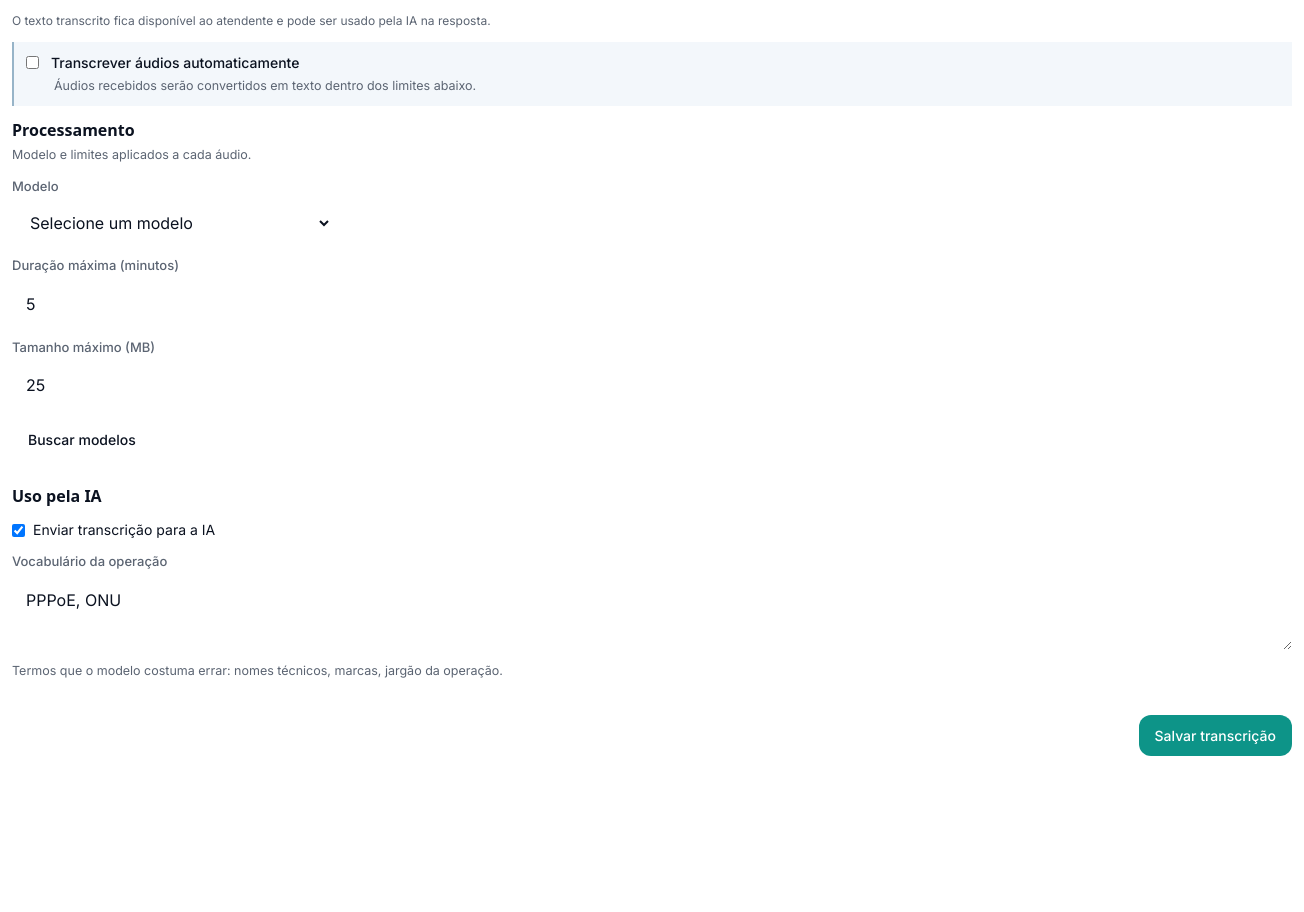
Test: AudioTranscriptionConfigCard › não deixa salvar com duração máxima vazia
Clear the number field labelled "Duração máxima (minutos)" at [60, 304], box [12, 282, 108, 326]
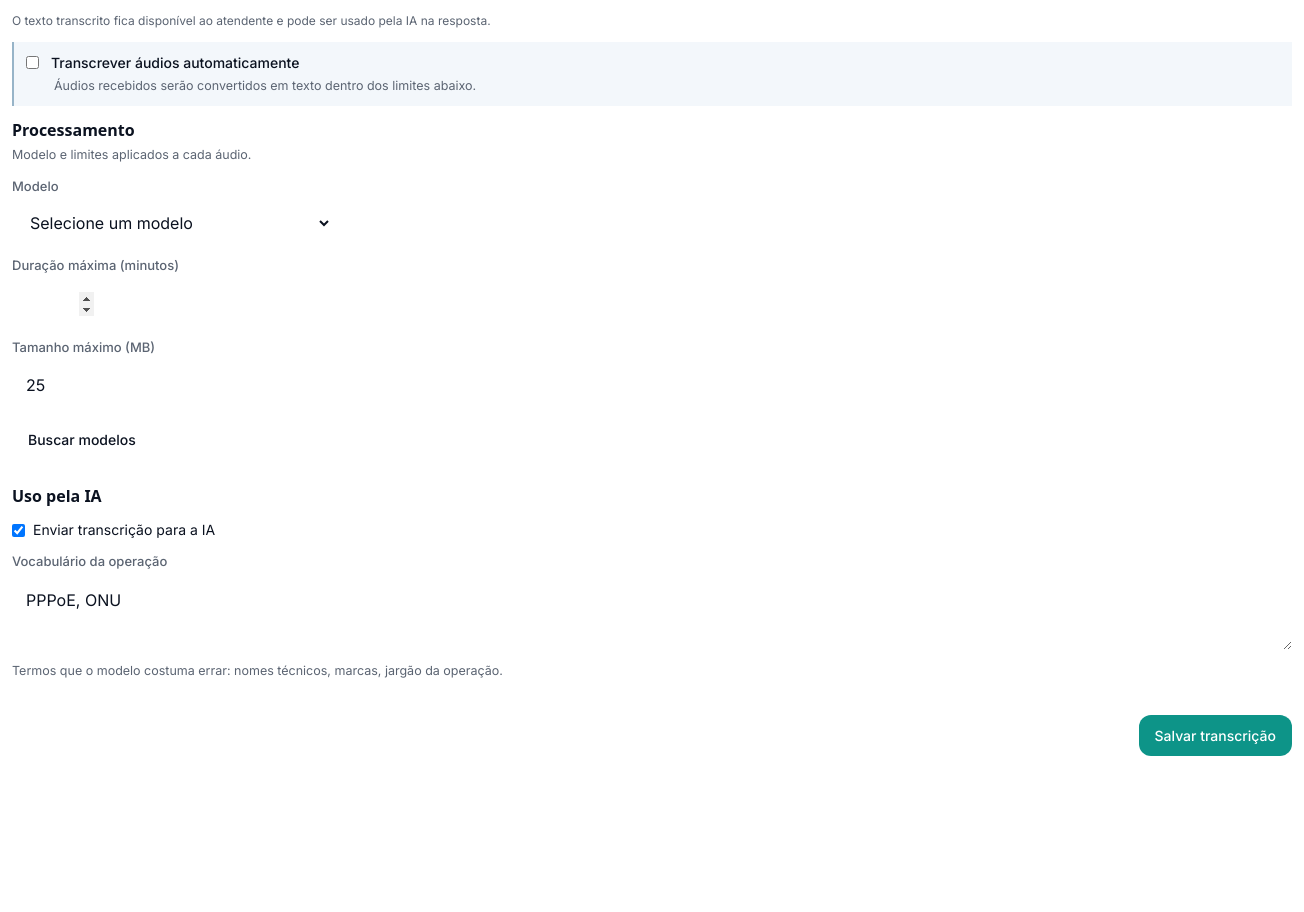
Click the button "Salvar transcrição".
click(1215, 735)  # box [1138, 714, 1292, 756]
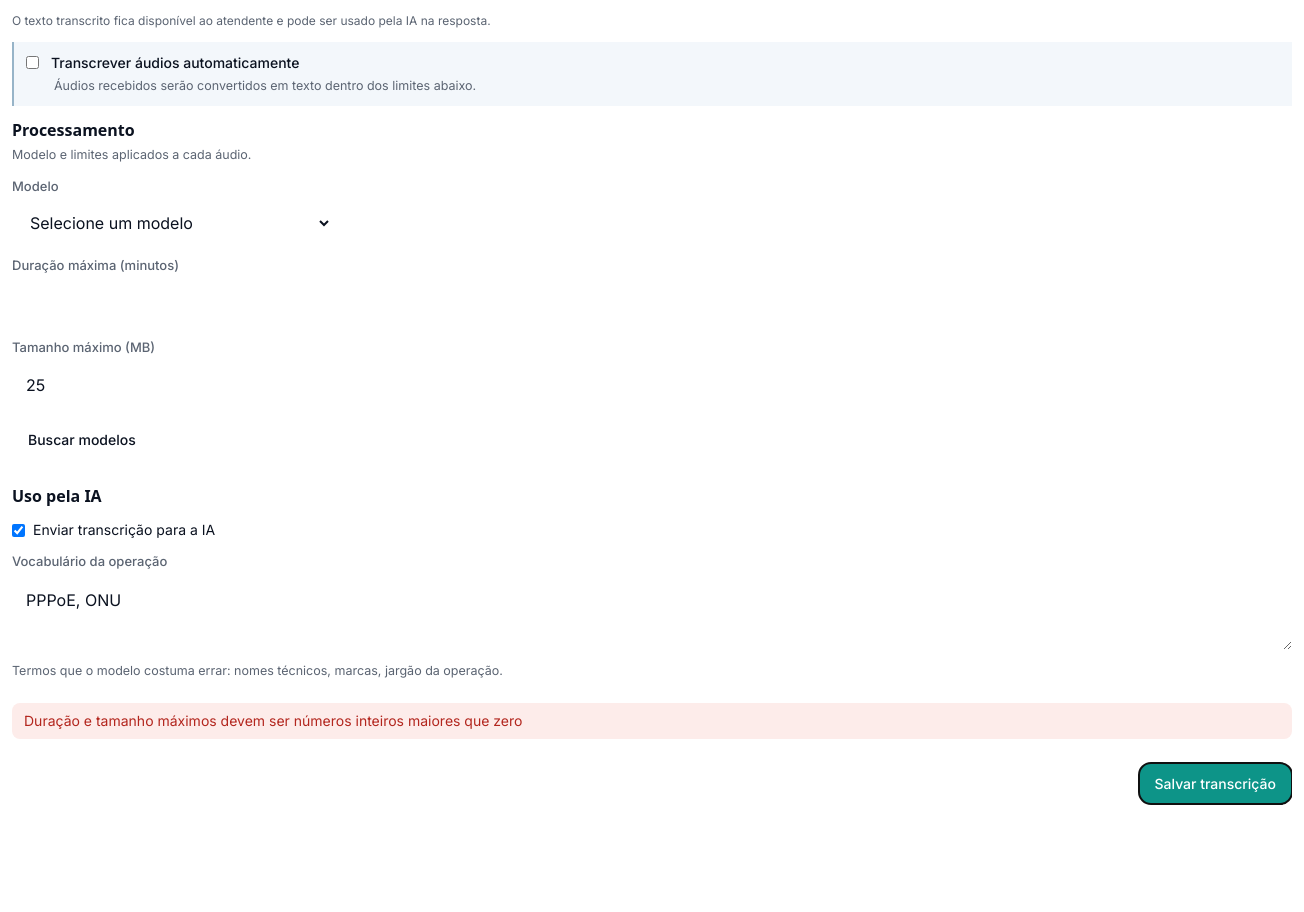
Now the text "Duração e tamanho máximos devem ser números inteiros maiores que zero" is shown, box [12, 702, 1292, 738]
